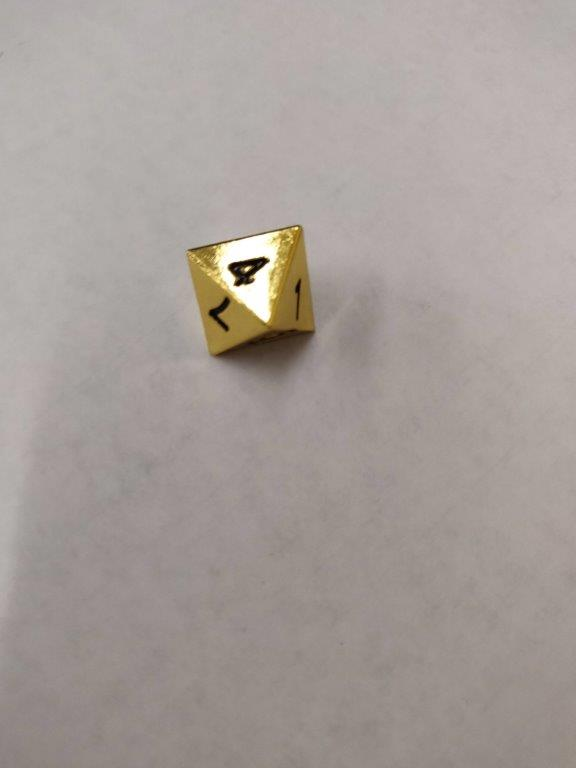d8-4: (187, 224, 316, 357)
